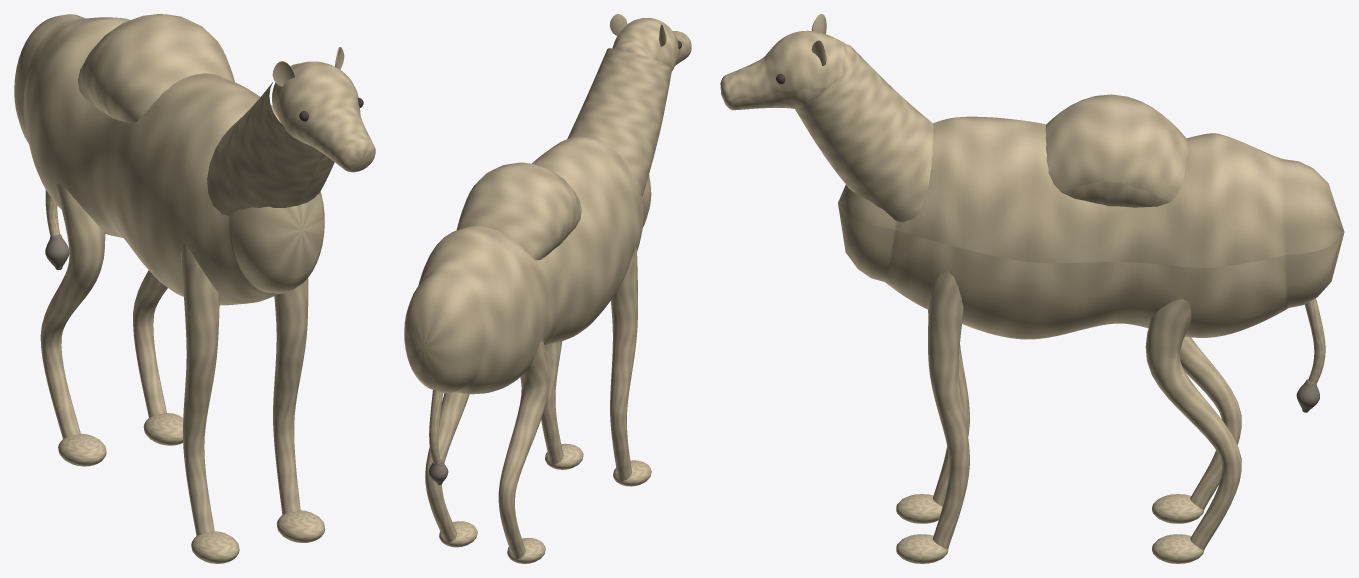
File: other-dromedary-camel.glb
3 views of the same model, side by side, from view 1: azimuth 30°, elevation 25°; view 2: azimuth 150°, elevation 25°; view 3: azimuth 270°, elevation 25° (orthographic). The views are drawn at different scales.
Parts seen in each view (by area): view 1: dromedary-camel; view 2: dromedary-camel; view 3: dromedary-camel.
Boxes of the visible parts, x1,y1,x2,y2 form: dromedary-camel: [14, 14, 375, 563]; dromedary-camel: [404, 14, 691, 563]; dromedary-camel: [720, 14, 1344, 563].
Size of the model in its own units: 0.6358 by 2.36 by 2.61.
Materials: 4 (1 with a texture image).
